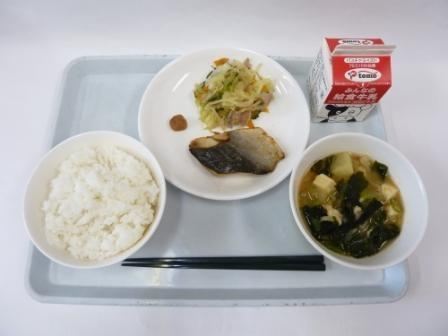Fish: (185, 128, 290, 180)
Milk: (301, 26, 401, 126)
Rice: (20, 130, 167, 269)
Soups: (289, 138, 420, 261)
salad with sauce: (188, 53, 276, 127)
